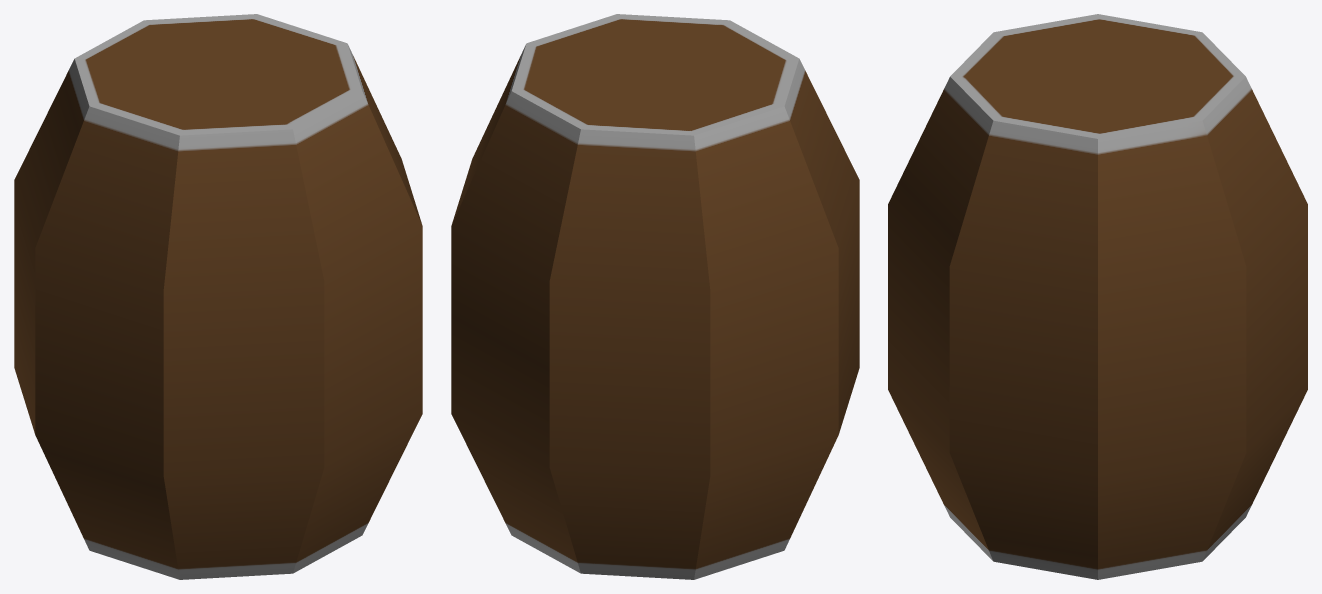
File: barrel.fbx
3 views of the same model, side by side, from view 1: azimuth 30°, elevation 25°; view 2: azimuth 150°, elevation 25°; view 3: azimuth 270°, elevation 25° (orthographic).
Parts seen in each view (by area): view 1: pCylinder1; view 2: pCylinder1; view 3: pCylinder1.
Boxes of the visible parts, box(x1,y1,x2,y2) form: pCylinder1: box(14, 14, 422, 579); pCylinder1: box(451, 14, 859, 579); pCylinder1: box(888, 14, 1307, 579).
Bounding box in the file's own units: 2.84 × 3.29 × 2.84.
1 material, 1 textured.
